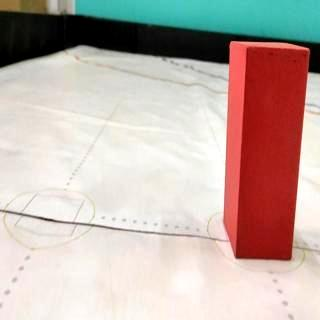redbox: (222, 41, 310, 260)
